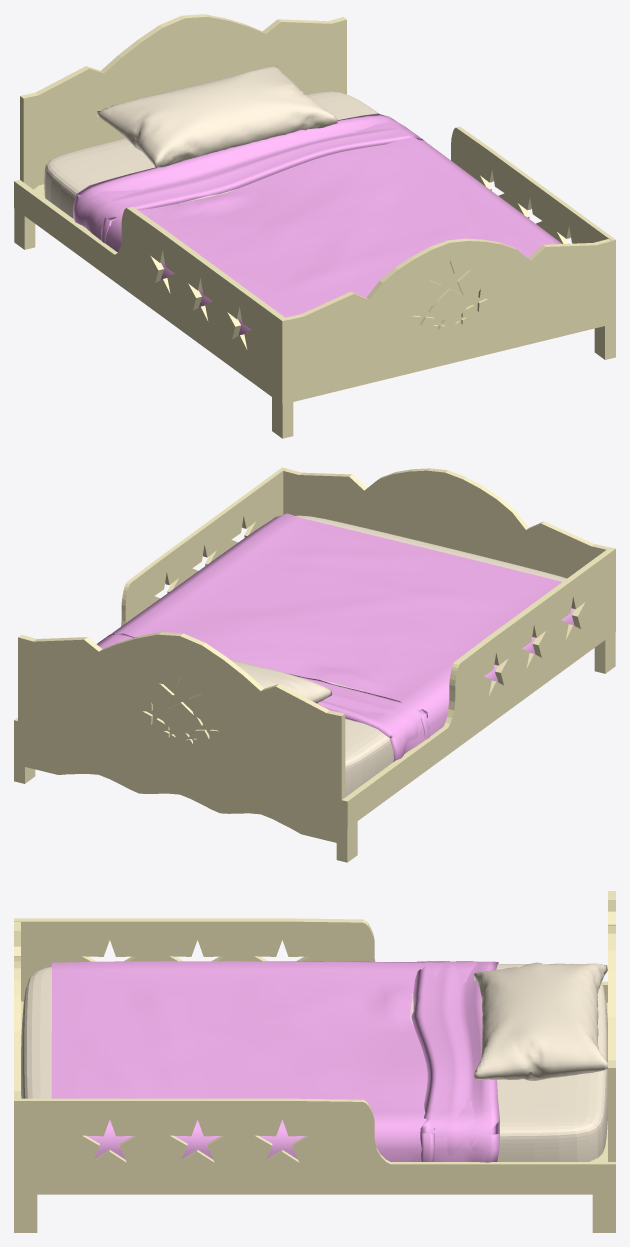
Rendered from Single_Child_Bed.fbx.
The picture shows the model from 3 angles, top to bottom: view 1: azimuth 30°, elevation 25°; view 2: azimuth 150°, elevation 25°; view 3: azimuth 270°, elevation 25°; orthographic projection. The views are drawn at different scales.
Visible parts, largest first — view 1: Bed.001, Bed.004, Bed.003; view 2: Bed.001, Bed.004, Bed.003; view 3: Bed.004, Bed.001, Bed.003.
Boxes of the visible parts, left/top/right/bottom form: Bed.001: left=14, top=14, right=615, bottom=438; Bed.004: left=44, top=91, right=561, bottom=335; Bed.003: left=97, top=66, right=337, bottom=167; Bed.001: left=14, top=467, right=615, bottom=862; Bed.004: left=96, top=513, right=574, bottom=796; Bed.003: left=230, top=659, right=331, bottom=703; Bed.004: left=21, top=961, right=607, bottom=1162; Bed.001: left=14, top=891, right=615, bottom=1232; Bed.003: left=473, top=962, right=607, bottom=1080.
Size of the model in its own units: 15.51 by 8.26 by 21.62.
